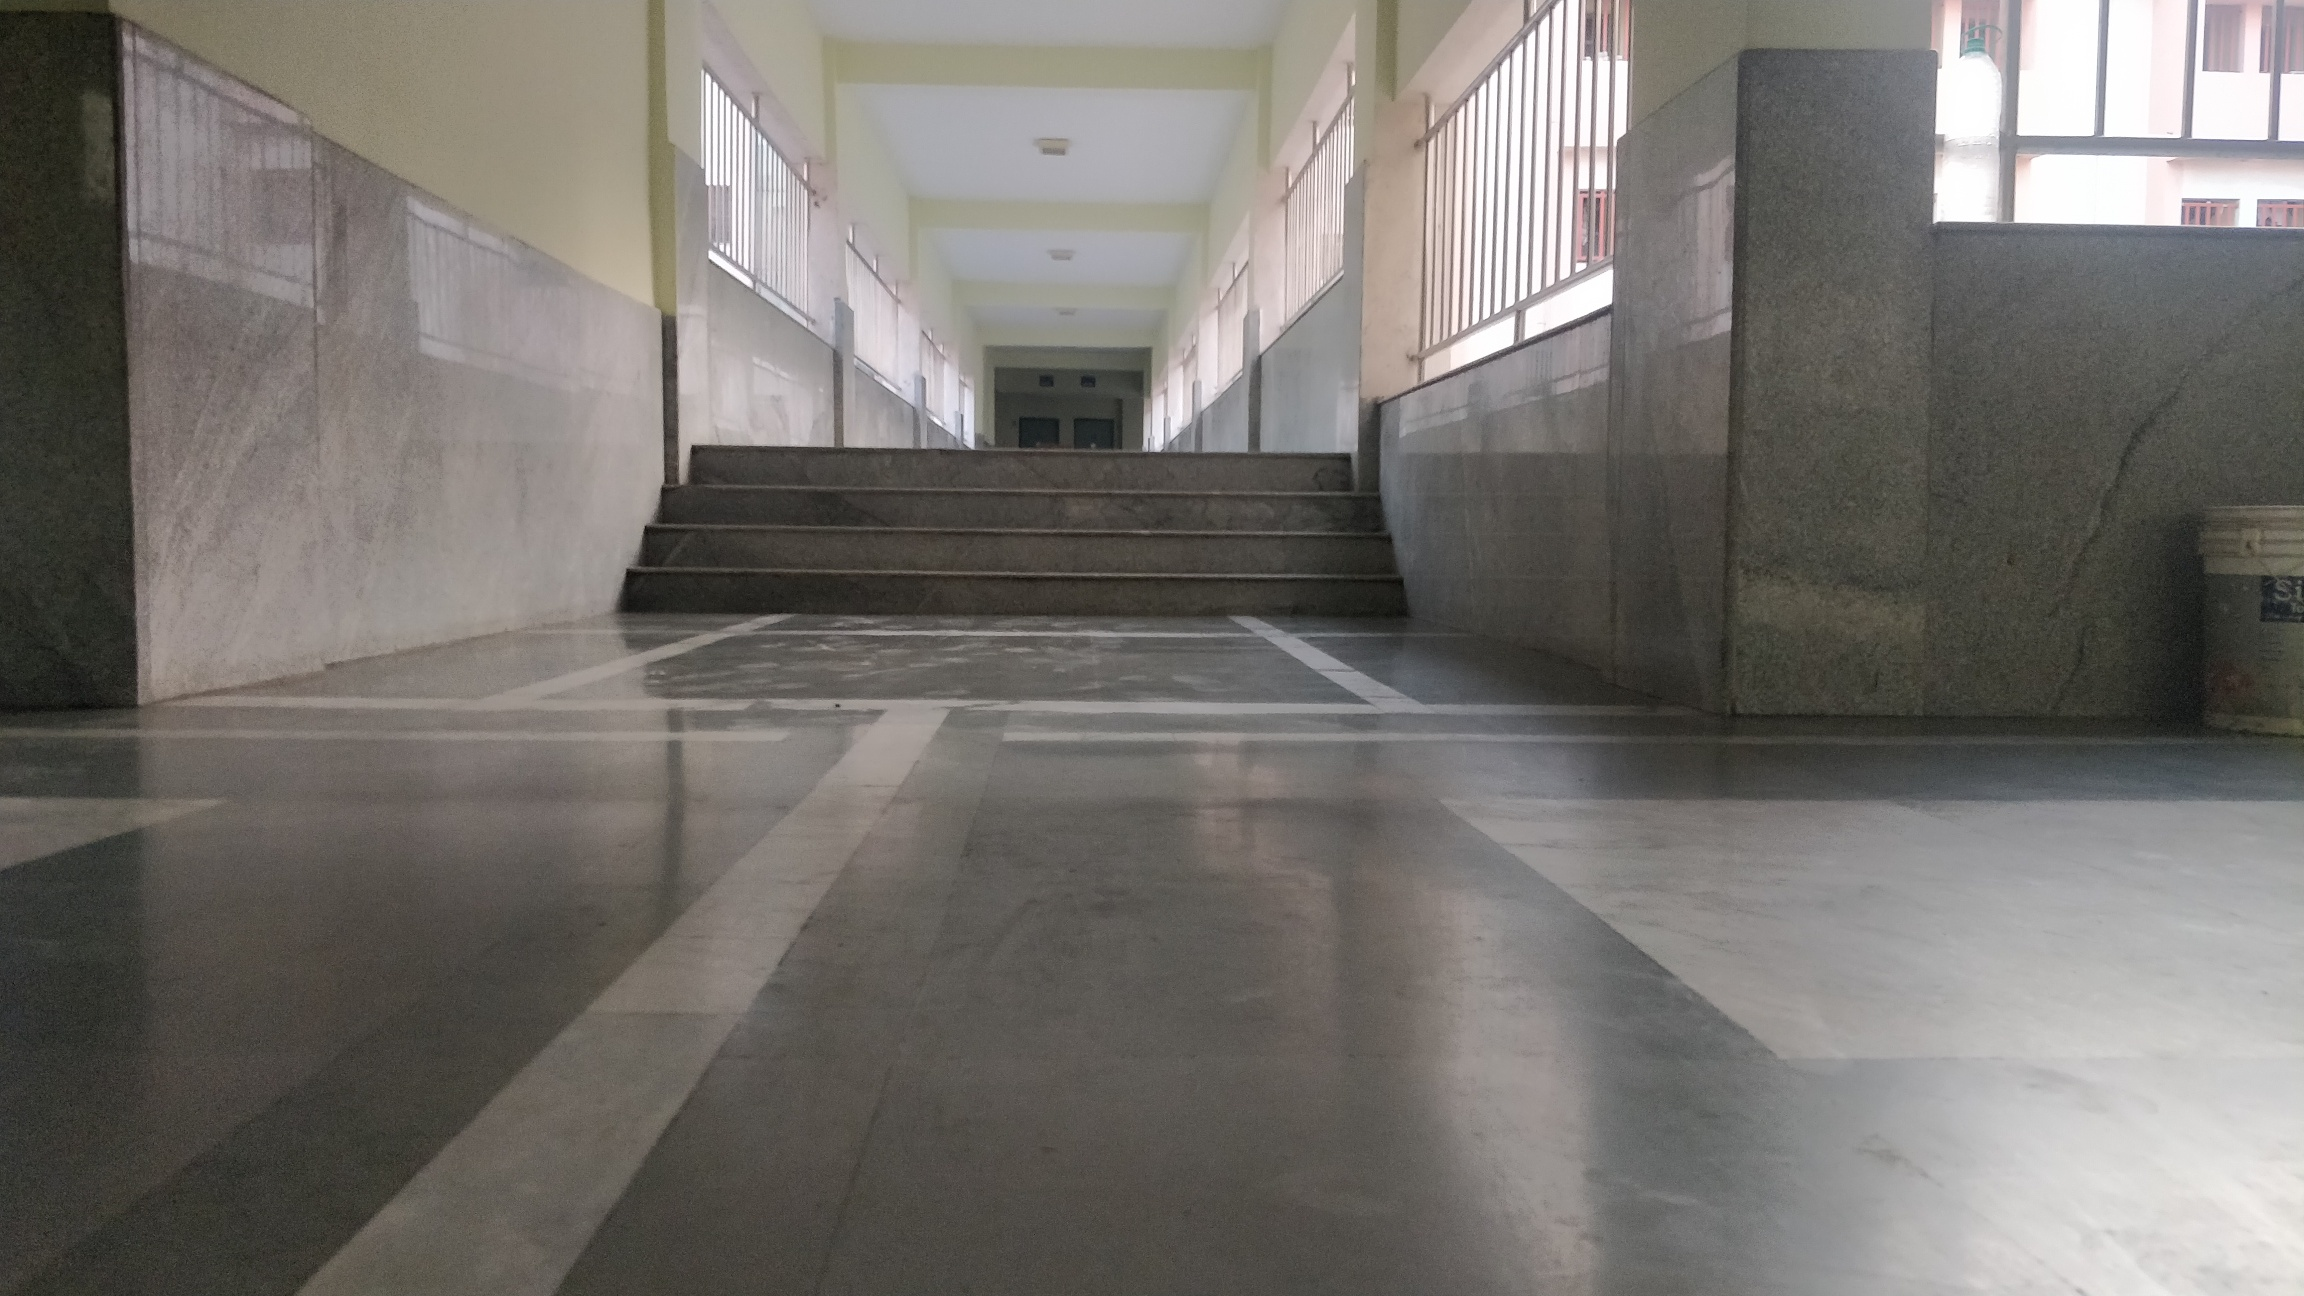stairs_up: (622, 429, 1427, 652)
